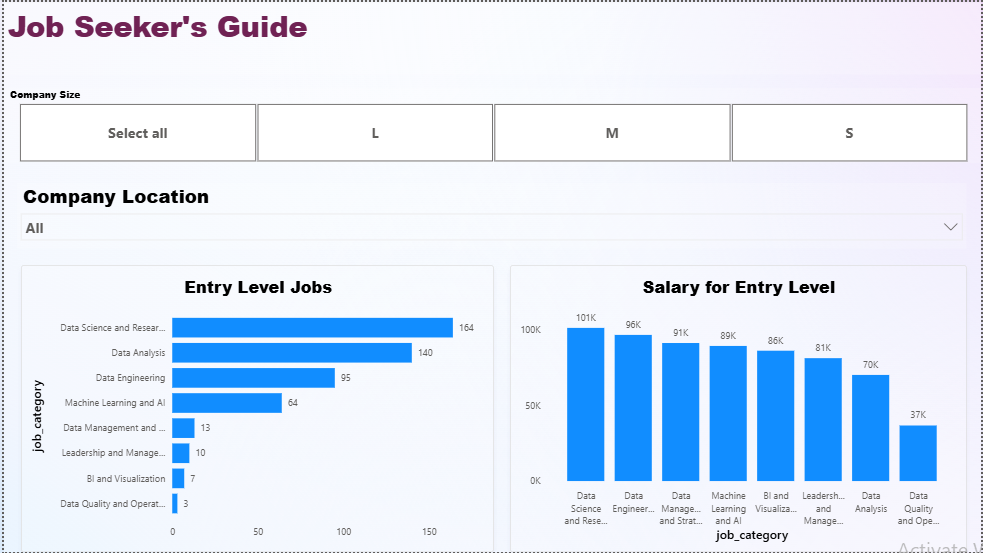

This screenshot's page, from the dashboard's own definition file:
{"tool":"powerbi","page":{"name":"Page 3","canvas":[1280,720],"ordinal":2},"visuals":[{"type":"clusteredBarChart","title":"Entry Level Jobs","fields":{"Category":["Table1.job_category"],"Y":["CountNonNull(Table1.job_title)"]},"box":[21.6,344.2,619.2,375.8],"z":0},{"type":"clusteredColumnChart","title":"Salary for Entry Level","fields":{"Category":["Table1.job_category"],"Y":["Avg(Table1.salary_in_usd)"]},"box":[662.4,344.2,597.6,375.8],"z":1000},{"type":"slicer","fields":{"Values":["Table1.company_size"]},"box":[0,112.3,1280.2,97.9],"z":2000},{"type":"slicer","fields":{"Values":["Table1.company_location"]},"box":[17.3,237.6,1242.7,86.4],"z":3000},{"type":"textbox","box":[0,0,1280.2,95],"z":4000}]}

Visuals, with their boxes on the page's 1280x720 design canvas (x1, y1, x2, y2). These are canvas units, not pixel positions in the 983x553 screenshot, which may show the page scaled, cropped or inside an application window:
"Entry Level Jobs" clusteredBarChart: (22, 344, 641, 720)
"Salary for Entry Level" clusteredColumnChart: (662, 344, 1260, 720)
slicer - Table1.company_size: (0, 112, 1280, 210)
slicer - Table1.company_location: (17, 238, 1260, 324)
textbox: (0, 0, 1280, 95)
